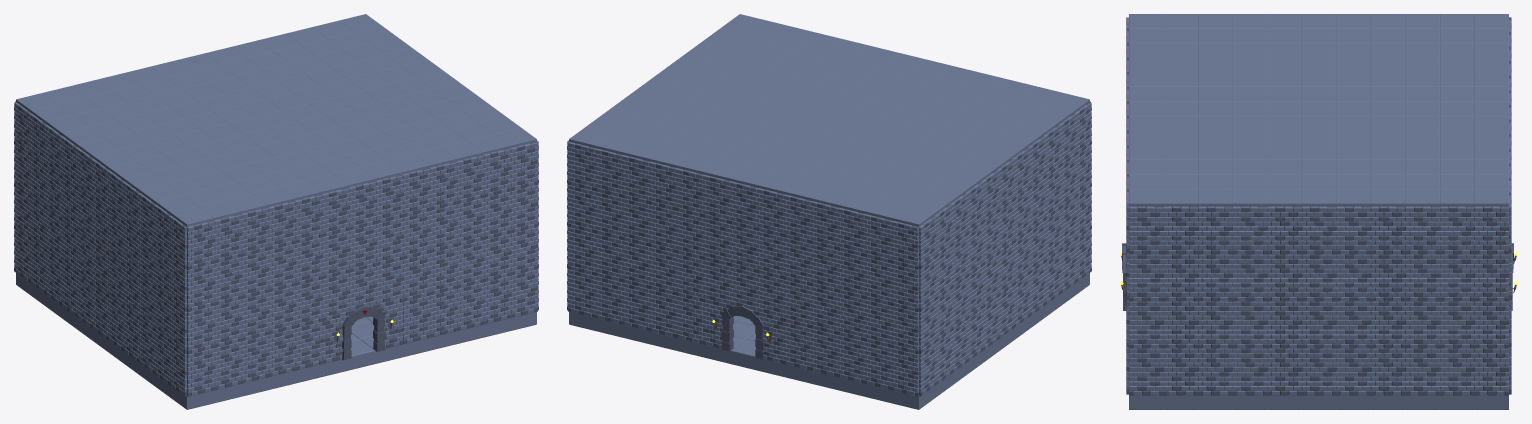
The model's file is CombatRoom_13x11.gltf.
3 views of the same model, side by side, from view 1: azimuth 30°, elevation 25°; view 2: azimuth 150°, elevation 25°; view 3: azimuth 270°, elevation 25° (orthographic). The views are drawn at different scales.
Visible parts, largest first — view 1: ArchOpen, Wall_S_6_T3, Wall_S_8_T3, Wall_S_0_T3, Wall_S_5_T3, Wall_S_7_T3, Wall_S_3_T3, Wall_S_4_T3, Wall_S_2_T3, Wall_S_9_T3, Wall_S_10_T3, Wall_S_11_T3 (+108 smaller); view 2: ArchOpen.001, Wall_N_6_T3, Wall_N_8_T3, Wall_N_0_T3, Wall_N_5_T3, Wall_N_7_T3, Wall_N_3_T3, Wall_N_4_T3, Wall_N_2_T3, Wall_N_9_T3, Wall_N_10_T3, Wall_N_11_T3 (+107 smaller); view 3: Wall_E_3_T3, Wall_E_5_T3, Wall_E_7_T3, Wall_E_3_T0, Wall_E_3_T1, Wall_E_3_T2, Wall_E_5_T0, Wall_E_5_T1, Wall_E_5_T2, Wall_E_7_T0, Wall_E_7_T1, Wall_E_7_T2 (+186 smaller).
Part boxes in pixels (bbox=[...]): ArchOpen: bbox=[322, 302, 403, 363]; Wall_S_6_T3: bbox=[349, 181, 376, 230]; Wall_S_8_T3: bbox=[402, 168, 430, 217]; Wall_S_0_T3: bbox=[187, 220, 214, 269]; Wall_S_5_T3: bbox=[321, 187, 349, 236]; Wall_S_7_T3: bbox=[375, 174, 403, 223]; Wall_S_3_T3: bbox=[267, 201, 295, 250]; Wall_S_4_T3: bbox=[295, 194, 322, 243]; Wall_S_2_T3: bbox=[241, 207, 268, 256]; Wall_S_9_T3: bbox=[429, 161, 457, 210]; Wall_S_10_T3: bbox=[456, 155, 484, 204]; Wall_S_11_T3: bbox=[483, 148, 511, 197]; ArchOpen.001: bbox=[702, 302, 783, 363]; Wall_N_6_T3: bbox=[729, 181, 756, 230]; Wall_N_8_T3: bbox=[675, 168, 703, 217]; Wall_N_0_T3: bbox=[891, 220, 918, 269]; Wall_N_5_T3: bbox=[756, 187, 784, 236]; Wall_N_7_T3: bbox=[702, 174, 730, 223]; Wall_N_3_T3: bbox=[810, 201, 838, 250]; Wall_N_4_T3: bbox=[783, 194, 810, 243]; Wall_N_2_T3: bbox=[837, 207, 864, 256]; Wall_N_9_T3: bbox=[648, 161, 676, 210]; Wall_N_10_T3: bbox=[621, 155, 649, 204]; Wall_N_11_T3: bbox=[594, 148, 622, 197]; Wall_E_3_T3: bbox=[1232, 206, 1267, 254]; Wall_E_5_T3: bbox=[1301, 206, 1336, 254]; Wall_E_7_T3: bbox=[1370, 206, 1405, 254]; Wall_E_3_T0: bbox=[1232, 348, 1267, 395]; Wall_E_3_T1: bbox=[1232, 301, 1267, 348]; Wall_E_3_T2: bbox=[1232, 254, 1267, 301]; Wall_E_5_T0: bbox=[1301, 348, 1336, 395]; Wall_E_5_T1: bbox=[1301, 301, 1336, 348]; Wall_E_5_T2: bbox=[1301, 254, 1336, 301]; Wall_E_7_T0: bbox=[1370, 348, 1405, 395]; Wall_E_7_T1: bbox=[1370, 301, 1405, 348]; Wall_E_7_T2: bbox=[1370, 254, 1405, 301].
Size of the model in its own units: 26.3 by 13.2 by 23.04.
